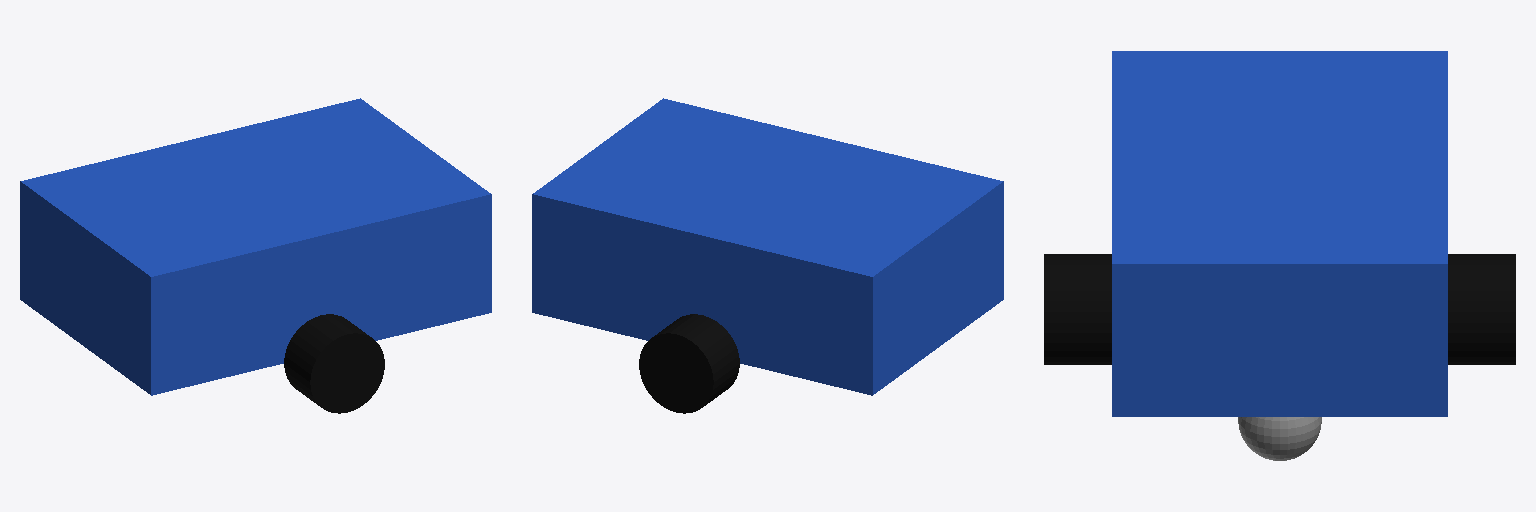
URDF robot description (ch17_mobile_robot):
<?xml version="1.0"?>
<robot name="ch17_mobile_robot">
  <material name="chassis_color">
    <color rgba="0.2 0.4 0.8 1.0"/>
  </material>
  <material name="wheel_color">
    <color rgba="0.1 0.1 0.1 1.0"/>
  </material>
  <material name="caster_color">
    <color rgba="0.6 0.6 0.6 1.0"/>
  </material>

  <link name="base_footprint"/>

  <joint name="base_joint" type="fixed">
    <parent link="base_footprint"/>
    <child link="base_link"/>
    <origin xyz="0 0 0.05" rpy="0 0 0"/>
  </joint>

  <link name="base_link">
    <visual>
      <origin xyz="0 0 0.05" rpy="0 0 0"/>
      <geometry>
        <box size="0.3 0.2 0.1"/>
      </geometry>
      <material name="chassis_color"/>
    </visual>
  </link>

  <link name="left_wheel_link">
    <visual>
      <origin xyz="0 0 0" rpy="1.570796 0 0"/>
      <geometry>
        <cylinder radius="0.033" length="0.04"/>
      </geometry>
      <material name="wheel_color"/>
    </visual>
  </link>

  <joint name="left_wheel_joint" type="continuous">
    <parent link="base_link"/>
    <child link="left_wheel_link"/>
    <origin xyz="0 0.12 0" rpy="0 0 0"/>
    <axis xyz="0 1 0"/>
  </joint>

  <link name="right_wheel_link">
    <visual>
      <origin xyz="0 0 0" rpy="1.570796 0 0"/>
      <geometry>
        <cylinder radius="0.033" length="0.04"/>
      </geometry>
      <material name="wheel_color"/>
    </visual>
  </link>

  <joint name="right_wheel_joint" type="continuous">
    <parent link="base_link"/>
    <child link="right_wheel_link"/>
    <origin xyz="0 -0.12 0" rpy="0 0 0"/>
    <axis xyz="0 1 0"/>
  </joint>

  <link name="caster_link">
    <visual>
      <geometry>
        <sphere radius="0.025"/>
      </geometry>
      <material name="caster_color"/>
    </visual>
  </link>

  <joint name="caster_joint" type="fixed">
    <parent link="base_link"/>
    <child link="caster_link"/>
    <origin xyz="0.1 0 -0.025" rpy="0 0 0"/>
  </joint>
</robot>

--- Render facts (derived) ---
3 views of the same robot in one strip: view 1: azimuth 30°, elevation 25°; view 2: azimuth 150°, elevation 25°; view 3: azimuth 270°, elevation 25° (orthographic).
Robot: ch17_mobile_robot — 5 links, 4 joints (2 continuous, 2 fixed); root link base_footprint; default pose: all joints at 0.
Visible links, largest first — view 1: base_link, right_wheel_link; view 2: base_link, left_wheel_link; view 3: base_link, left_wheel_link, right_wheel_link, caster_link.
Link boxes in pixels (x1=…): base_link: x1=20, y1=98, x2=491, y2=395; right_wheel_link: x1=284, y1=314, x2=384, y2=413; base_link: x1=532, y1=98, x2=1003, y2=395; left_wheel_link: x1=639, y1=314, x2=739, y2=413; base_link: x1=1112, y1=51, x2=1447, y2=416; left_wheel_link: x1=1448, y1=254, x2=1515, y2=364; right_wheel_link: x1=1044, y1=254, x2=1111, y2=364; caster_link: x1=1238, y1=417, x2=1321, y2=460.
Bounding box of the posed robot: 0.3 × 0.28 × 0.15 m (x, y, z).
Geometry: primitives only (box / cylinder / sphere), no mesh files.
